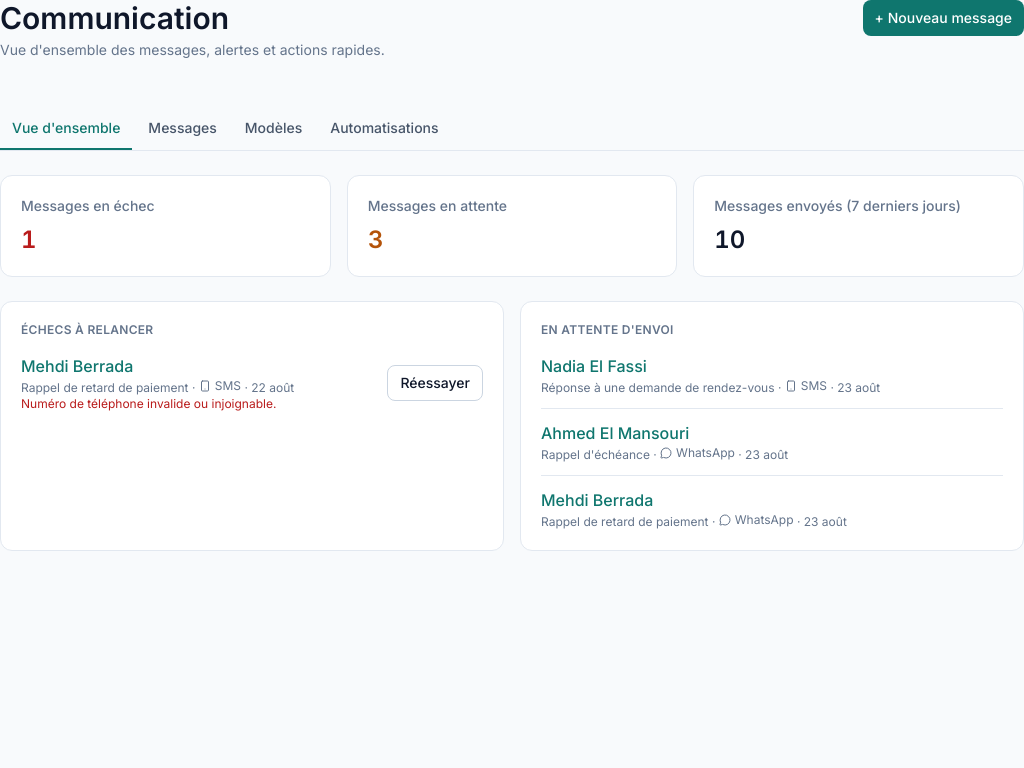
Test: CommunicationDashboard › composes and sends a new message to an existing patient, filling the body from a template
The image size is (1024, 768).
Click the button "+ Nouveau message".
click(943, 18)  # box [863,0,1023,36]
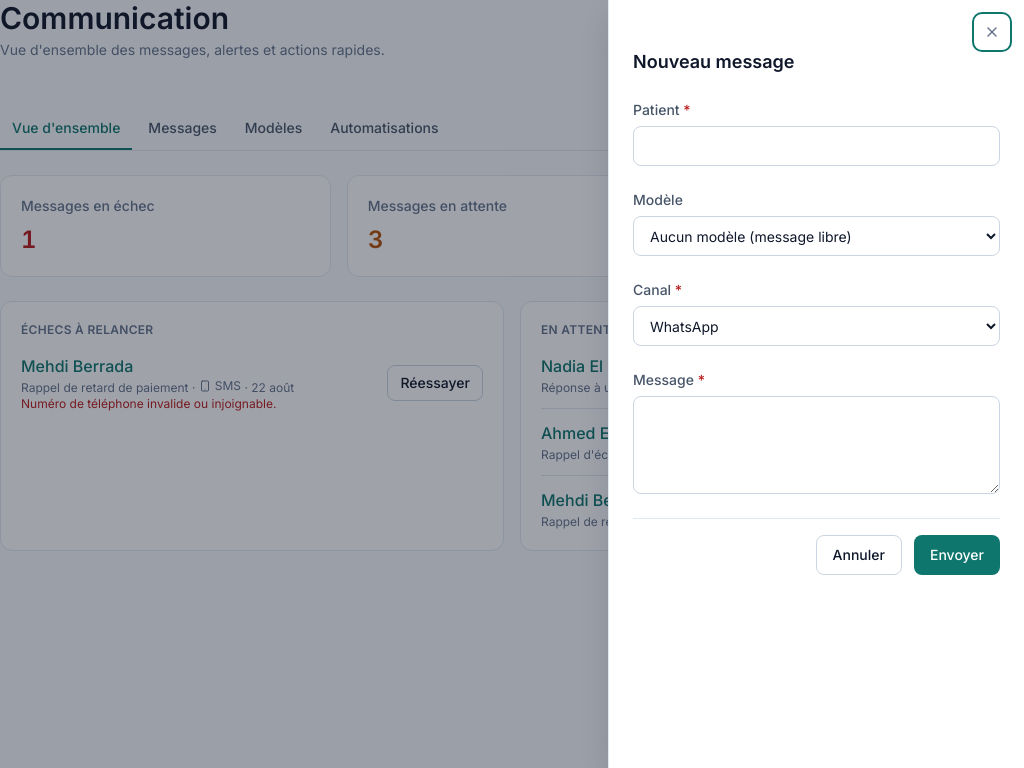
Type "Ahmed" into the dropdown labelled "Patient *".
click(816, 146); type("Ahmed")  # box [633,126,1000,166]
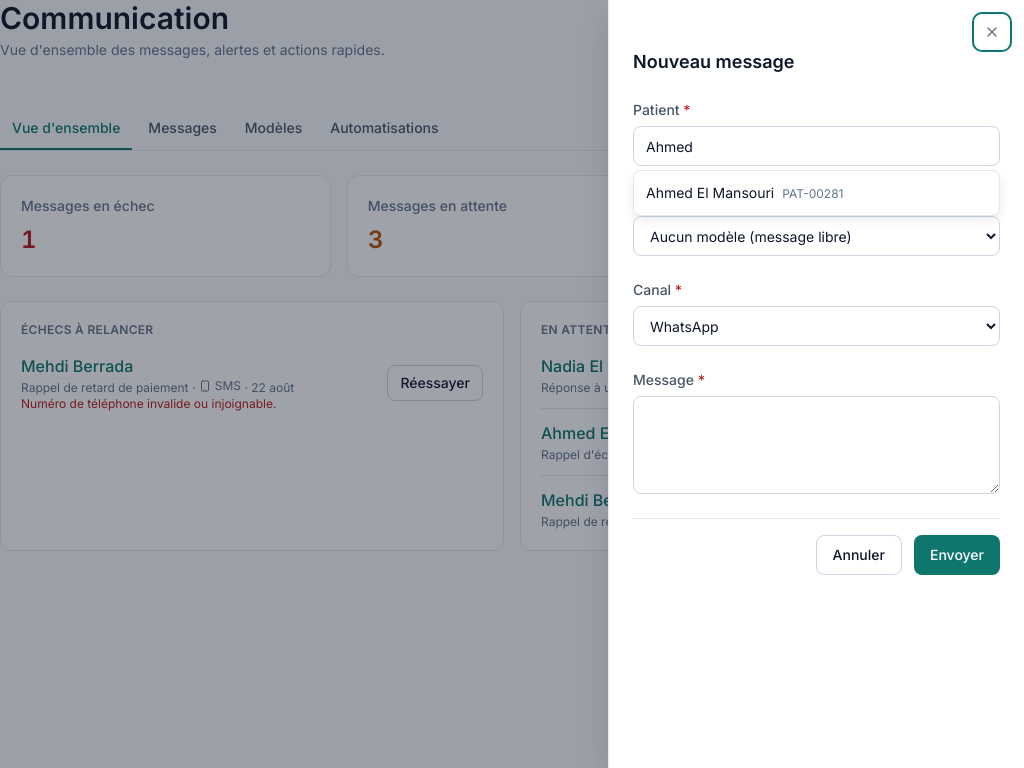
Click the option "Ahmed El Mansouri".
click(745, 192)  # box [646,184,844,201]
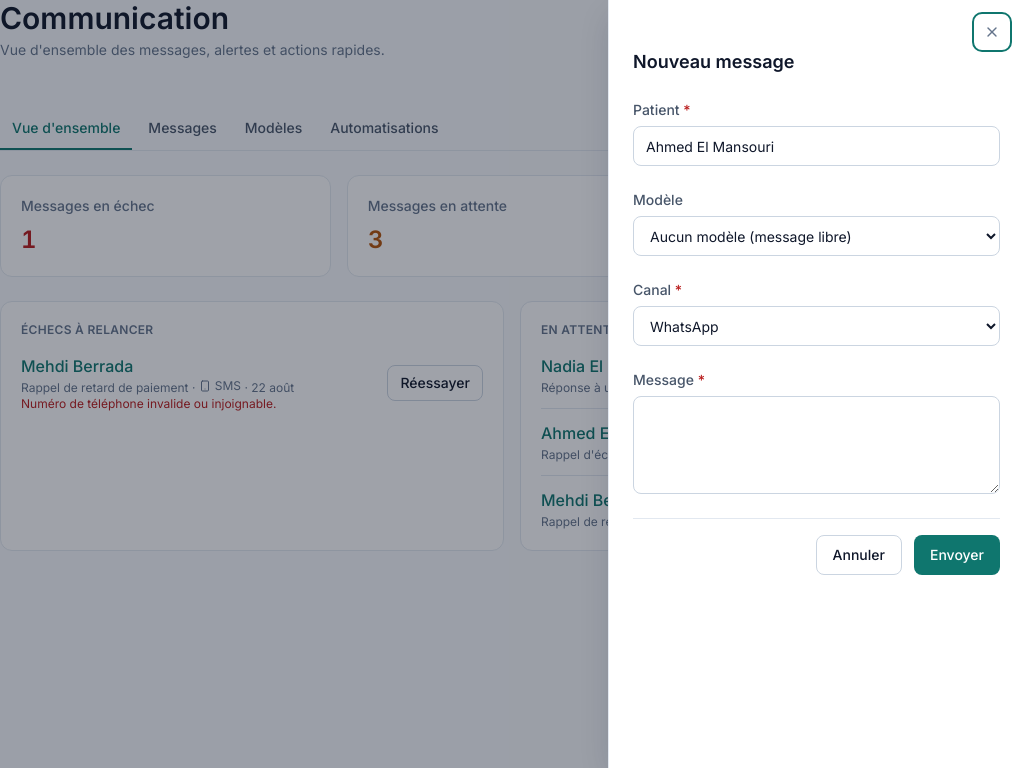
Select "Rappel RDV — 24h avant" in the dropdown labelled "Modèle" at (816, 236), box [633,216,1000,256]
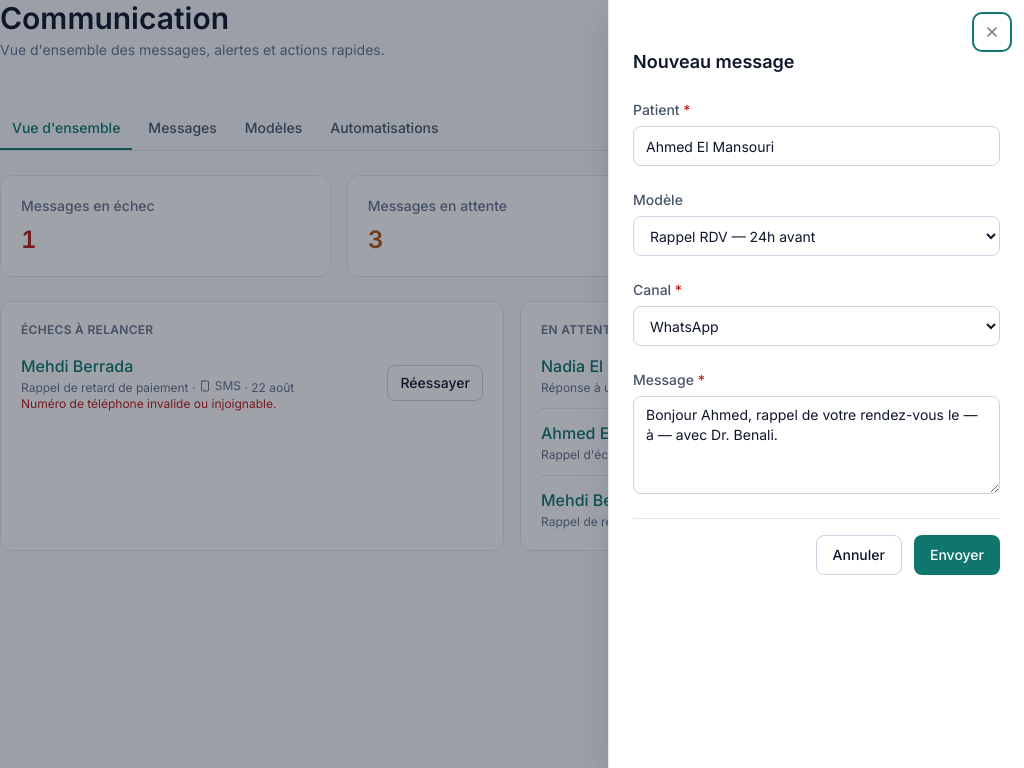
Check: the dropdown labelled "Canal *" shows "WhatsApp", box [633,306,1000,346]
Check: the text box labelled "Message *" holds "Bonjour Ahmed, rappel de votre rendez-vous le — à — avec Dr. Benali.", box [633,396,1000,494]
Click the button "Envoyer".
click(957, 555)  # box [914,535,1000,575]
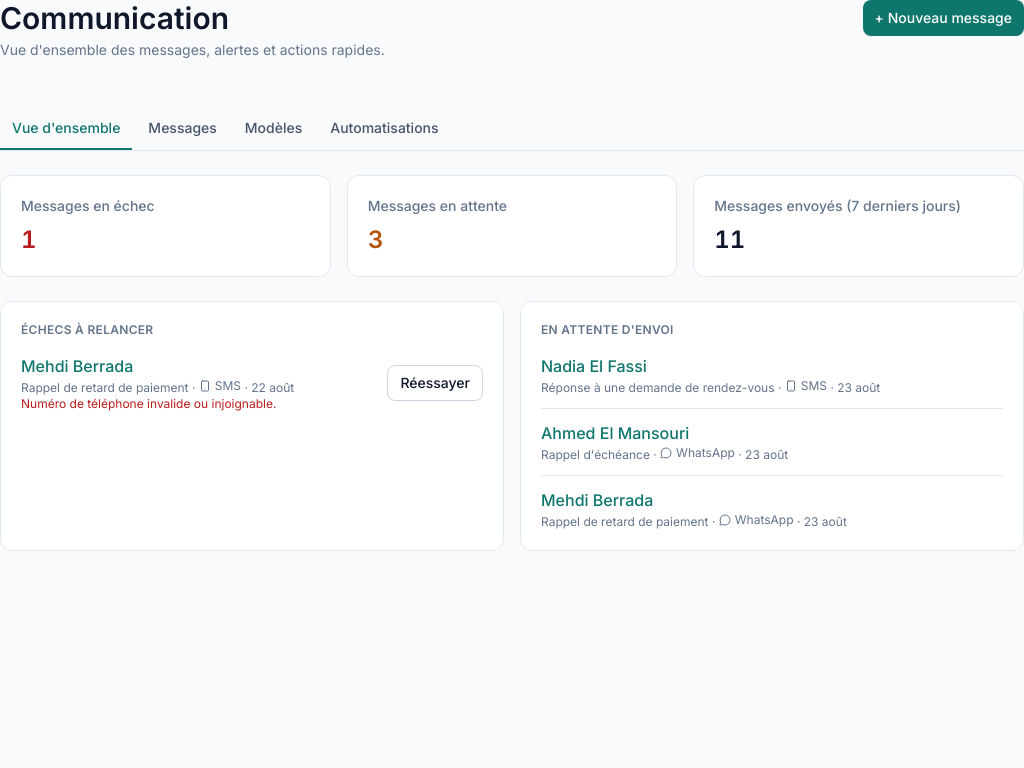
Check: the dialog is gone
Check: the text "11" is shown, box [714,225,745,254]
